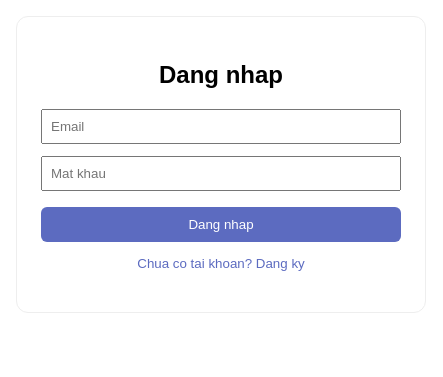
Test: Login component › toggles to register form when clicking switch link
Click the button "Chua co tai khoan? Dang ky".
click(221, 263)  # box [131, 255, 311, 272]
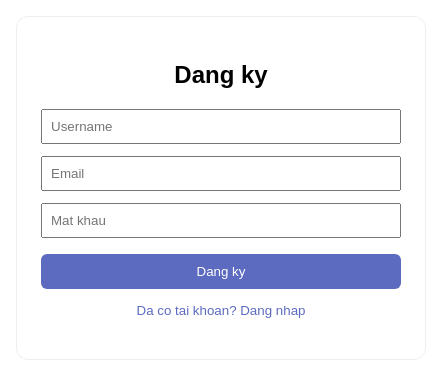
Expected: the field with placeholder "Username" is shown, [41, 109, 401, 144]
Expected: the heading "Dang ky" is shown, [174, 61, 268, 88]
